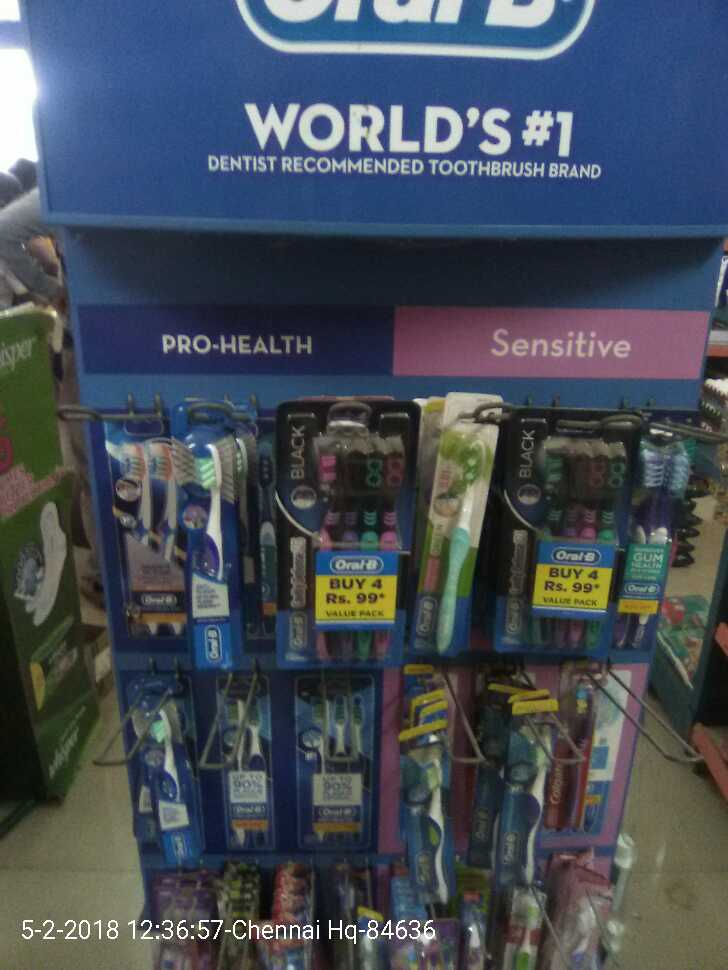oralb: (272, 398, 413, 669), (504, 407, 637, 664), (415, 390, 499, 665), (169, 394, 240, 671)
